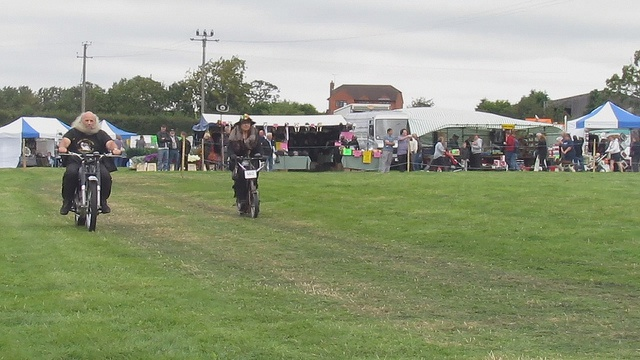non-vehicle: (59, 151, 123, 230), (230, 157, 272, 218)
